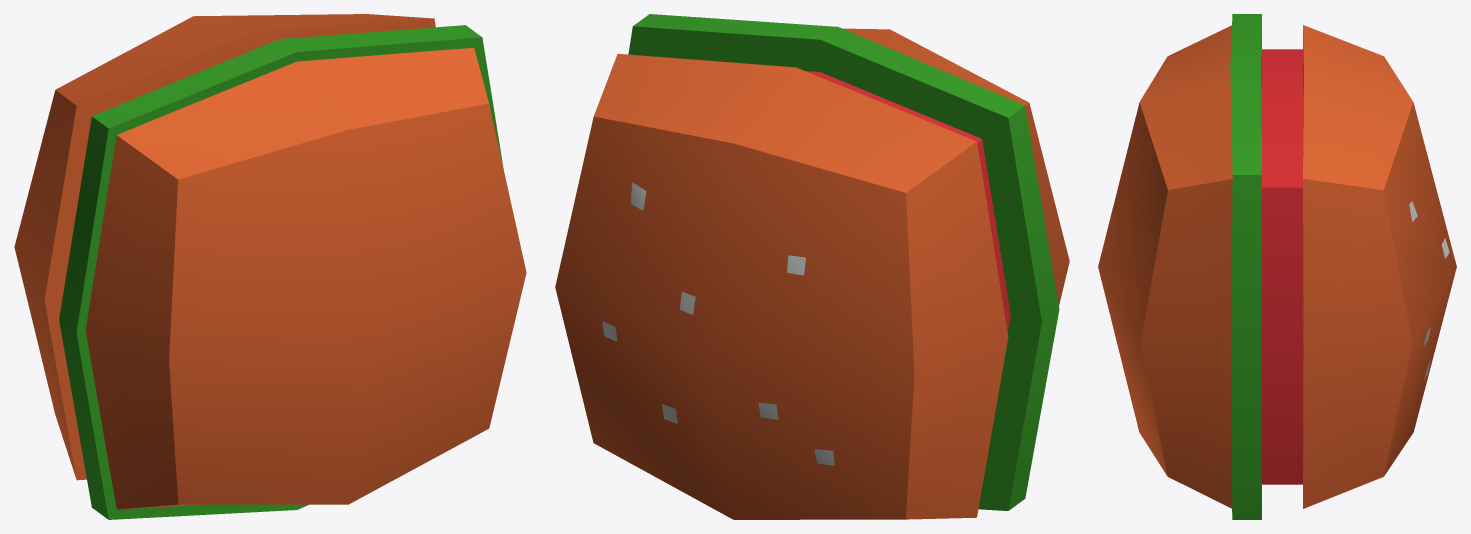
The model's file is Head 03.FBX.
3 views of the same model, side by side, from view 1: azimuth 30°, elevation 25°; view 2: azimuth 150°, elevation 25°; view 3: azimuth 270°, elevation 25° (orthographic). The views are drawn at different scales.
Parts seen in each view (by area): view 1: Head 03; view 2: Head 03; view 3: Head 03.
Part boxes in pixels (bbox=[...]): Head 03: bbox=[14, 14, 526, 519]; Head 03: bbox=[555, 14, 1069, 519]; Head 03: bbox=[1098, 14, 1456, 519].
Bounding box in the file's own units: 82.65 × 82.89 × 66.75.
1 material, 1 textured.
